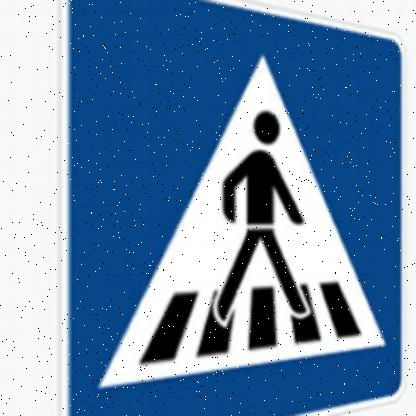Pedestrian Crossing: (61, 1, 411, 416)
